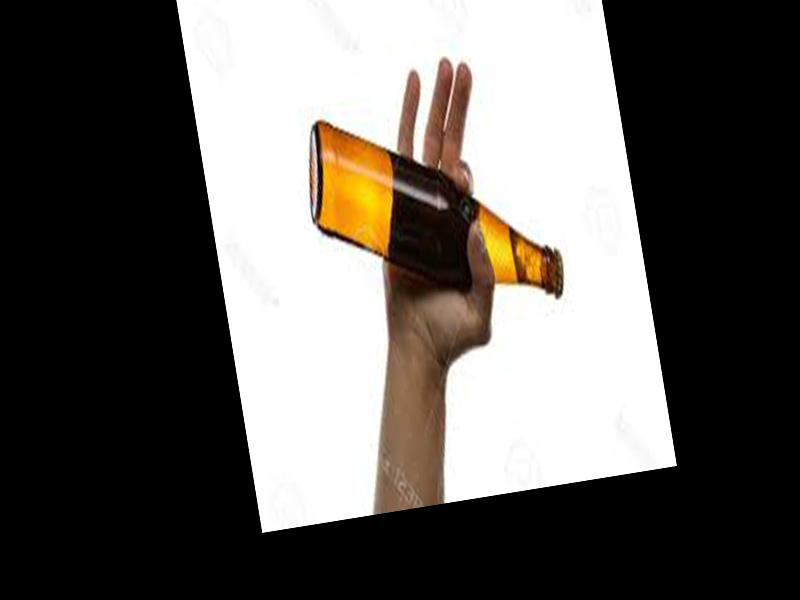Beer: (299, 93, 561, 329)
